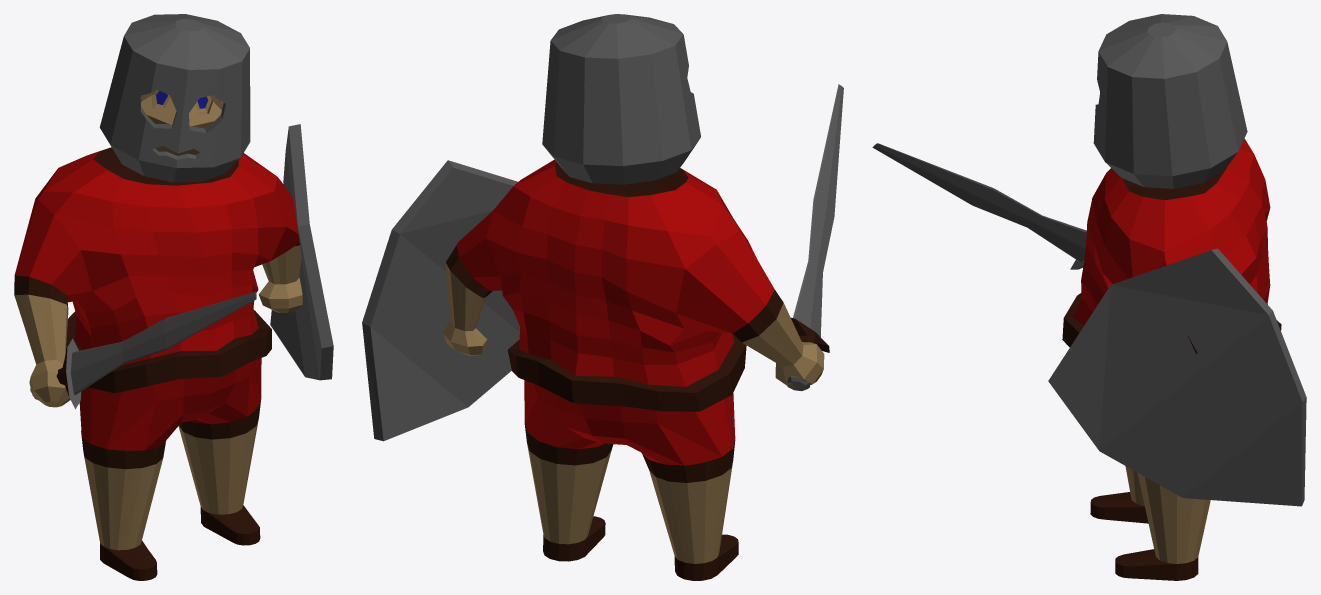
File: LPSoldier3.obj
3 views of the same model, side by side, from view 1: azimuth 30°, elevation 25°; view 2: azimuth 150°, elevation 25°; view 3: azimuth 270°, elevation 25° (orthographic). The views are drawn at different scales.
Visible parts, largest first — view 1: Circle_Circle.001; view 2: Circle_Circle.001; view 3: Circle_Circle.001.
Boxes of the visible parts, bbox=[...] form: Circle_Circle.001: bbox=[14, 14, 333, 580]; Circle_Circle.001: bbox=[362, 14, 843, 580]; Circle_Circle.001: bbox=[872, 14, 1306, 580].
Bounding box in the file's own units: 2.96 × 4.16 × 3.12.
